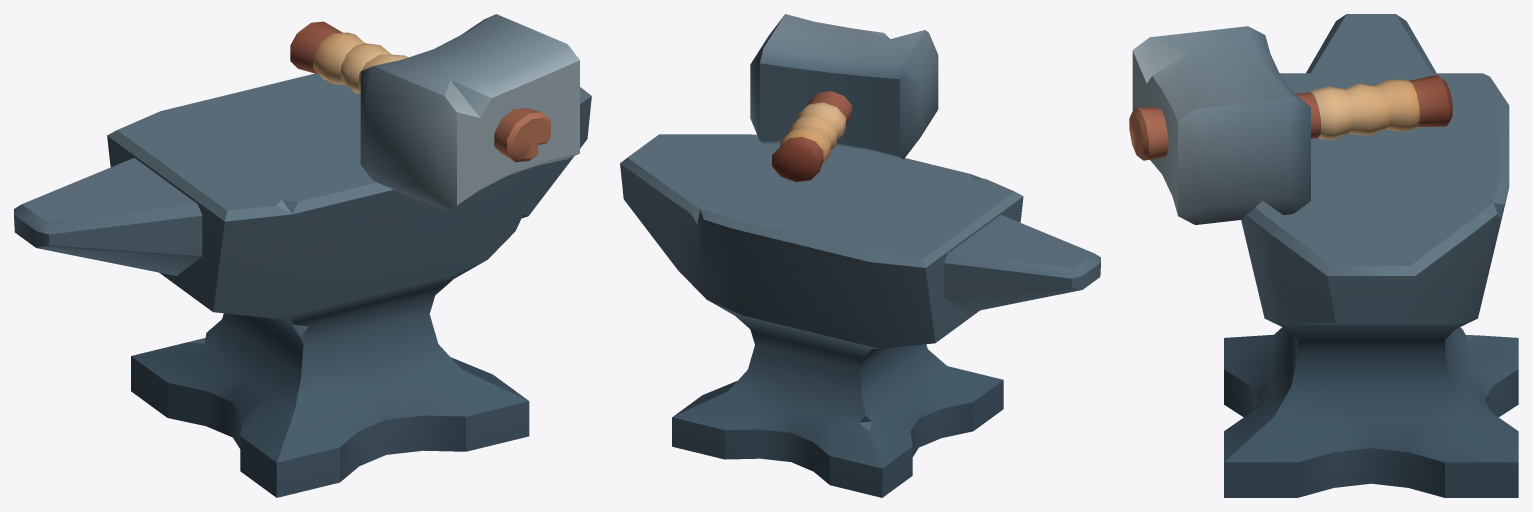
Rendered from amboss.glb.
3 renders of one model, left to right at view 1: azimuth 30°, elevation 25°; view 2: azimuth 150°, elevation 25°; view 3: azimuth 270°, elevation 25°, orthographic. The views are drawn at different scales.
Parts seen in each view (by area): view 1: anvil, hammer; view 2: anvil, hammer; view 3: anvil, hammer.
Boxes of the visible parts, x1,y1,x2,y2 form: anvil: [14, 73, 591, 497]; hammer: [290, 14, 579, 210]; anvil: [620, 134, 1100, 497]; hammer: [750, 14, 938, 181]; anvil: [1224, 14, 1518, 497]; hammer: [1129, 26, 1452, 224].
Bounding box in the file's own units: 1.62 × 1.13 × 0.9909.
Materials: 1 (1 with a texture image).
